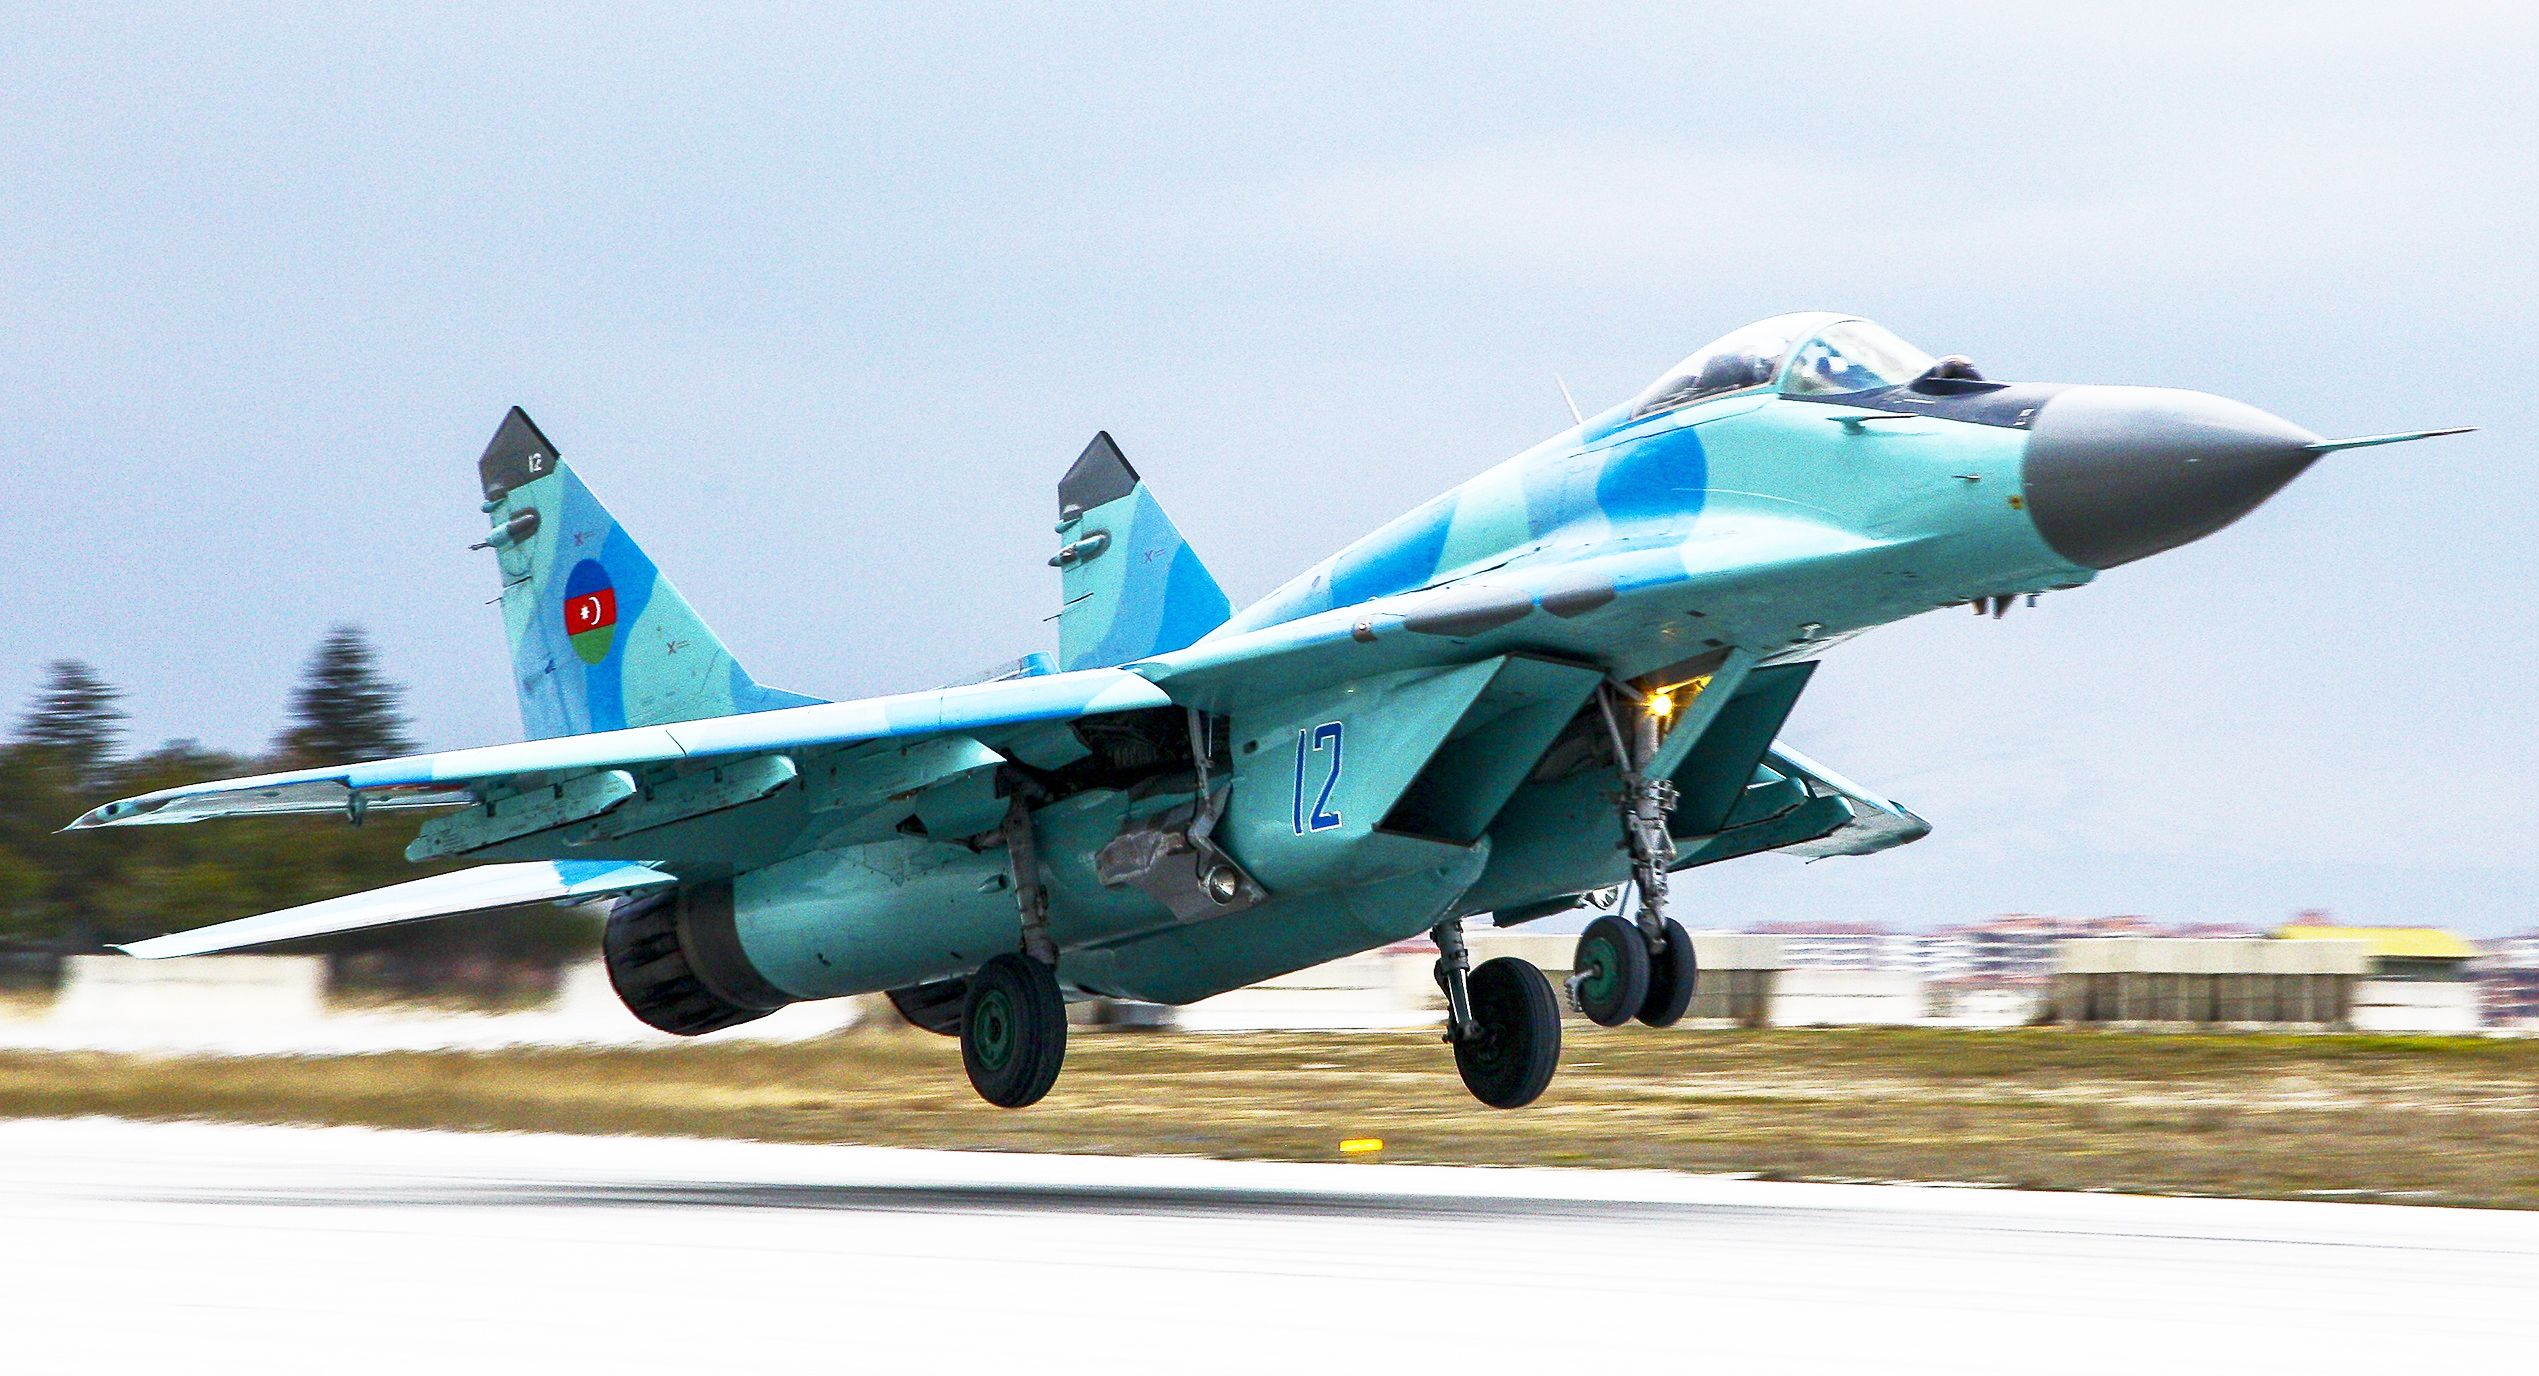Mig-29: (191, 246, 2397, 1108)
